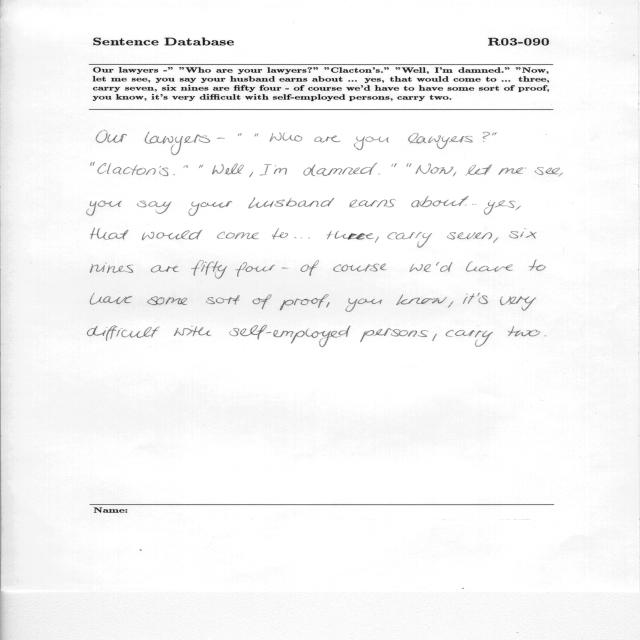word: (229, 326, 351, 348), (145, 132, 210, 155), (88, 325, 160, 341), (408, 133, 473, 149), (249, 197, 335, 209), (304, 163, 378, 176), (360, 328, 428, 342), (98, 163, 169, 176), (446, 330, 493, 347), (280, 294, 329, 310), (388, 232, 432, 248), (191, 260, 227, 279), (189, 201, 232, 216), (411, 197, 469, 208), (142, 230, 202, 240), (235, 262, 275, 277), (396, 294, 447, 305), (87, 200, 122, 216), (500, 296, 537, 311), (346, 298, 383, 312), (466, 261, 513, 272), (91, 293, 133, 305), (333, 263, 387, 272), (484, 200, 516, 215), (354, 137, 389, 150), (137, 201, 172, 214), (326, 231, 374, 240), (91, 263, 134, 273), (416, 164, 454, 175), (91, 228, 129, 239), (96, 130, 127, 143), (349, 199, 396, 207), (174, 326, 211, 336), (447, 232, 492, 240), (147, 297, 187, 306), (212, 164, 244, 175), (206, 295, 240, 305), (217, 232, 259, 240), (508, 326, 540, 336), (509, 228, 537, 239), (300, 260, 319, 276), (270, 133, 303, 142), (466, 165, 493, 176), (253, 295, 272, 310), (498, 167, 526, 175), (535, 167, 560, 175), (528, 260, 546, 271), (151, 265, 179, 272), (314, 136, 341, 143), (272, 228, 288, 239), (409, 264, 431, 272), (436, 262, 453, 272), (260, 164, 272, 176), (463, 293, 475, 304), (274, 165, 287, 175), (478, 293, 488, 304), (483, 131, 490, 142), (448, 301, 454, 308), (432, 334, 437, 341), (294, 237, 310, 239), (493, 237, 498, 243), (375, 236, 379, 243), (249, 172, 253, 178), (391, 163, 397, 167), (326, 302, 330, 308), (254, 133, 259, 137), (492, 132, 497, 136), (407, 163, 412, 167), (558, 173, 563, 177), (516, 206, 521, 210), (217, 137, 225, 139), (91, 162, 95, 166), (238, 133, 242, 136), (184, 165, 188, 168), (199, 165, 203, 168), (453, 172, 456, 176), (465, 204, 476, 205), (282, 268, 288, 269), (378, 174, 381, 175), (173, 174, 175, 175), (544, 335, 546, 336)
